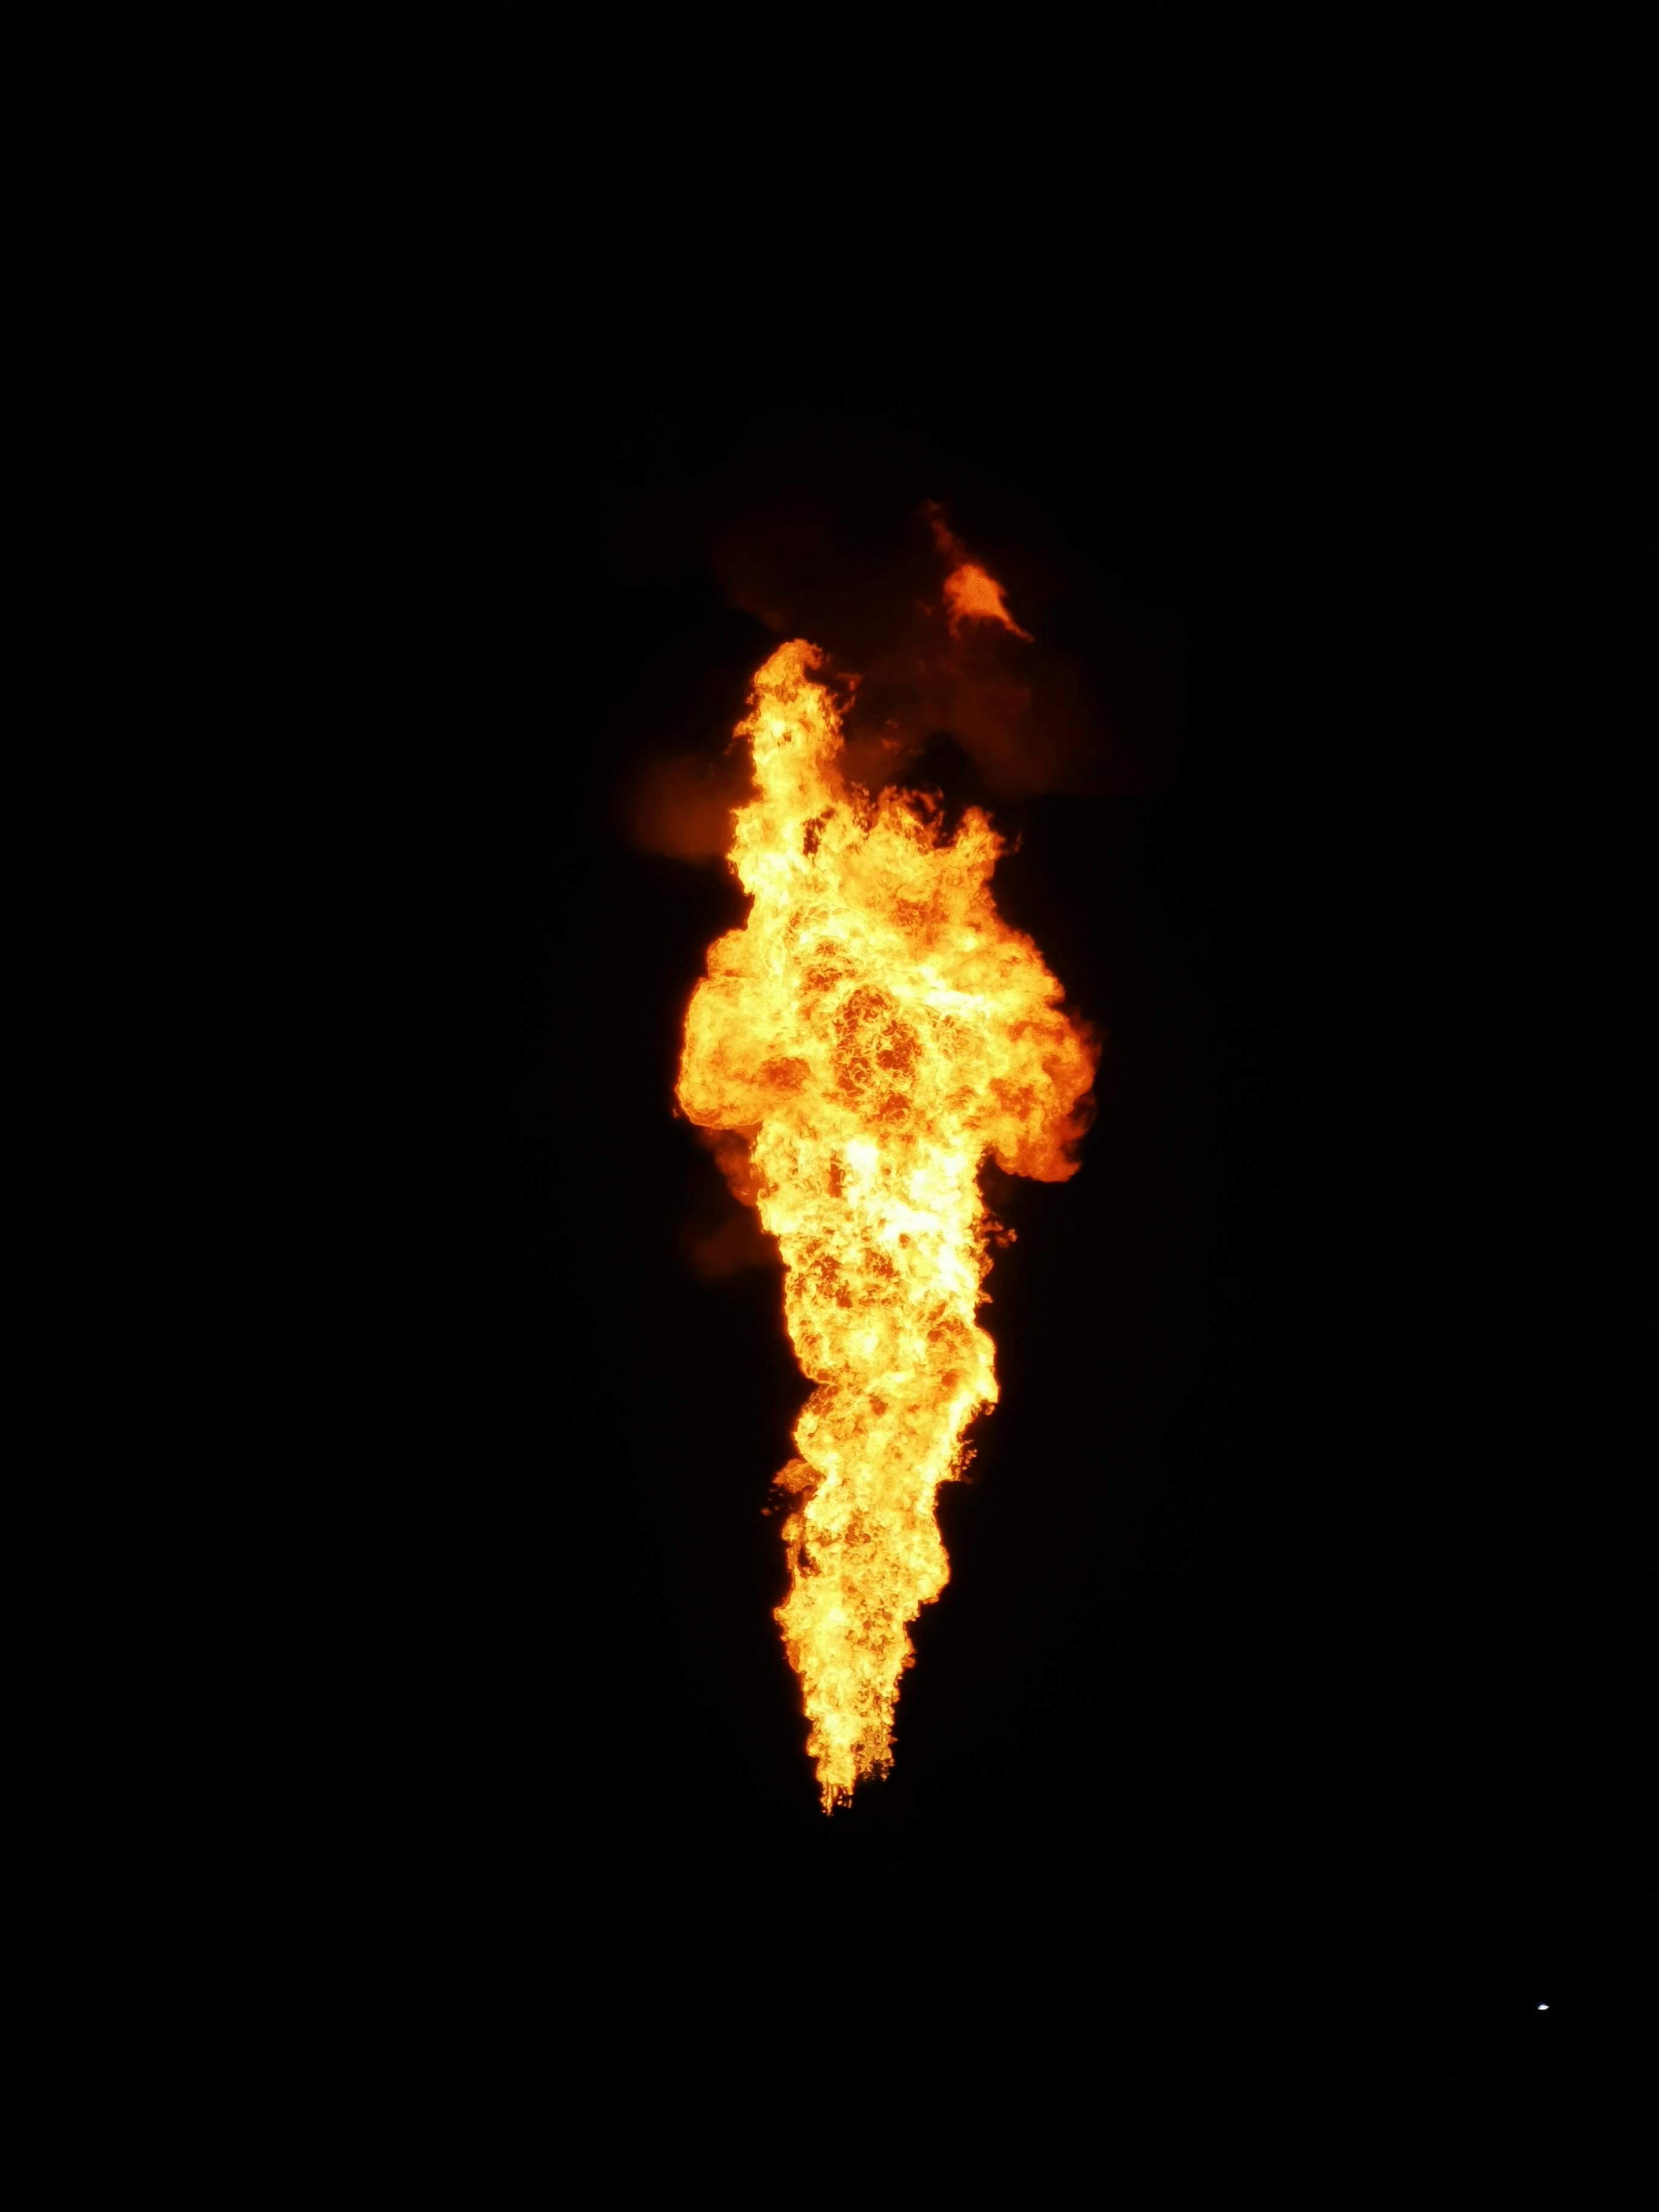Fire: (613, 486, 1129, 1848)
